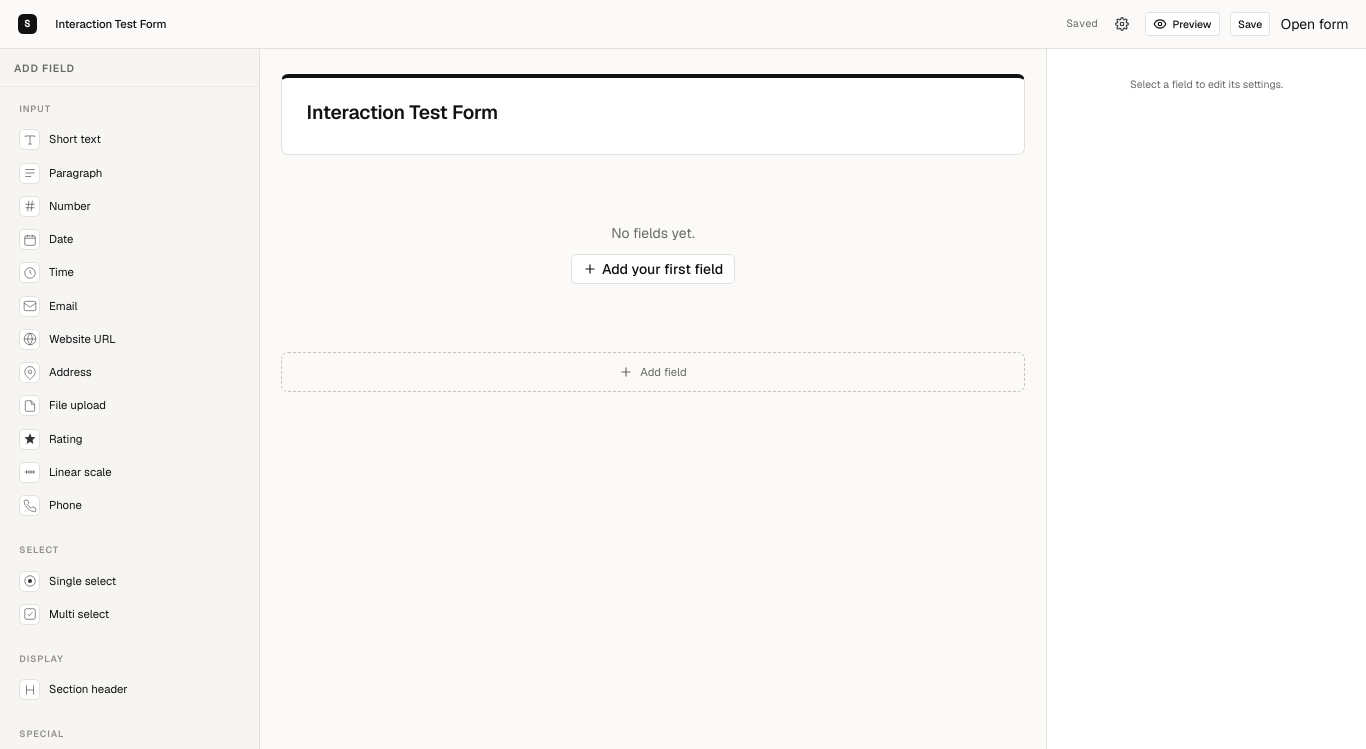
BuilderPage interactions › settings modal › opens the settings modal when the settings button is clicked
Note: The settings button in BuilderToolbar — find by visible text/icon
Click the button named "settings": (1122, 24) 1108,12 -> 1135,36
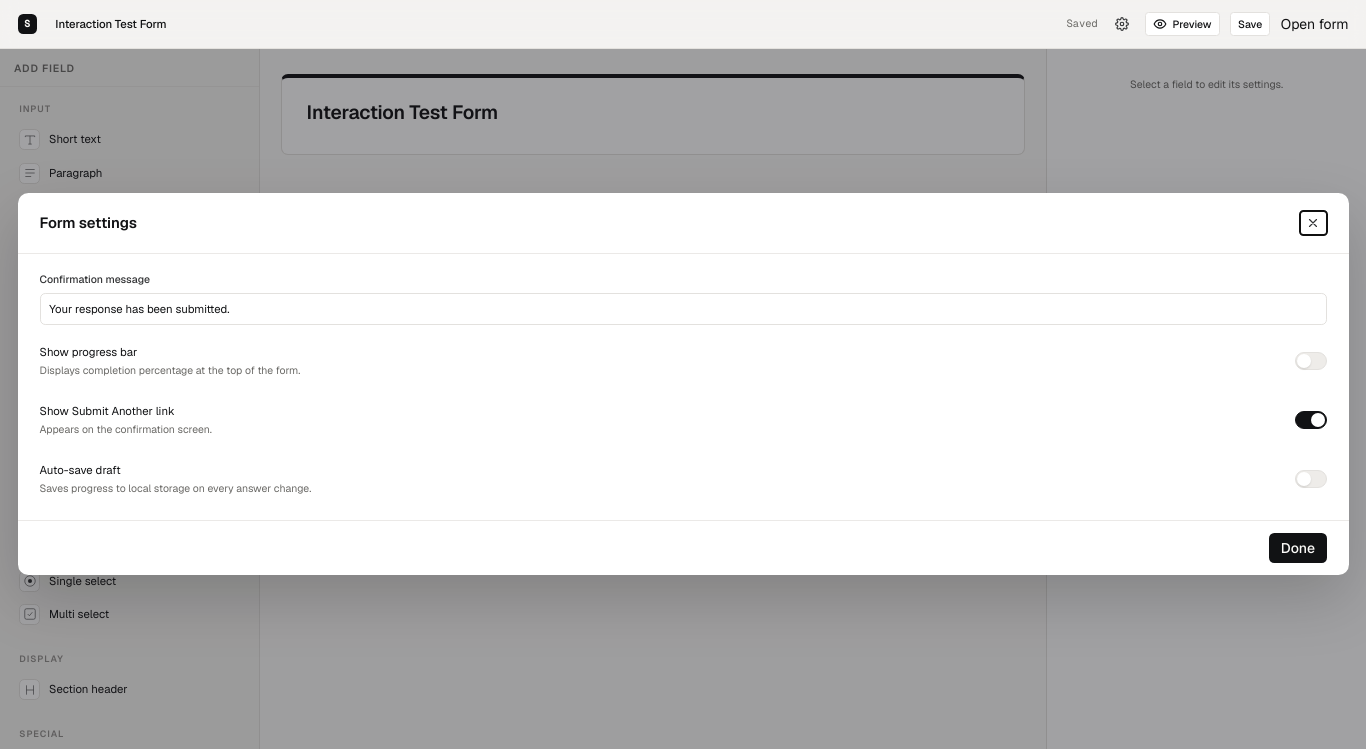
Expected: the heading "Form settings" is shown, 40,212 -> 137,234
